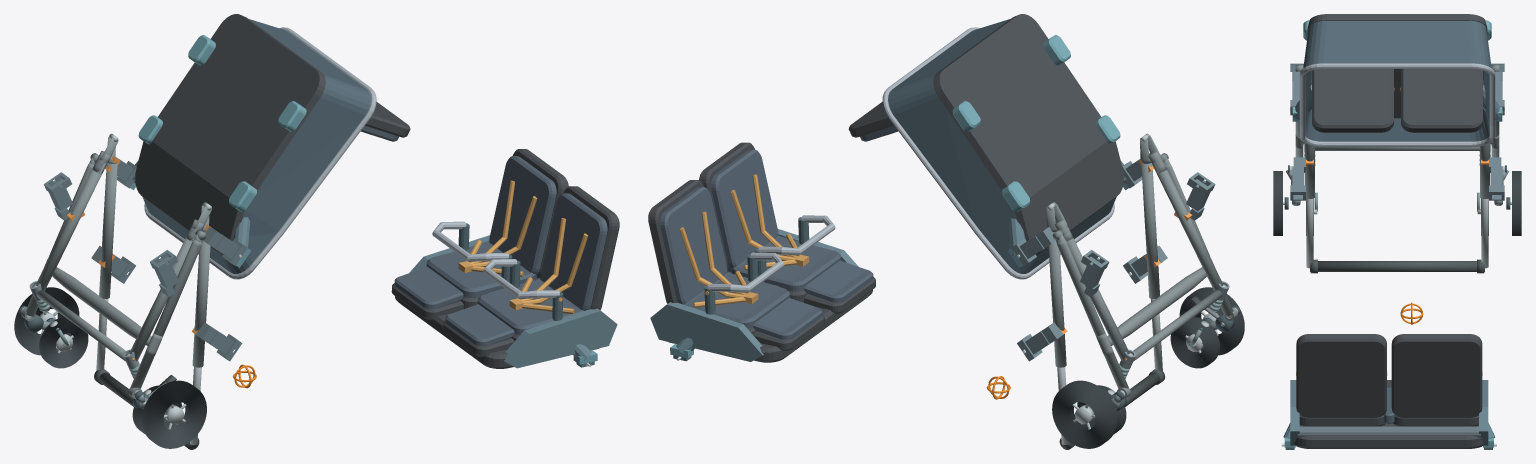
File: D33_w650_state3_wheel_S.glb
3 renders of one model, left to right at view 1: azimuth 30°, elevation 25°; view 2: azimuth 150°, elevation 25°; view 3: azimuth 270°, elevation 25°, orthographic. The views are drawn at different scales.
Parts seen in each view (by area): view 1: D33_Lower, D33_Upper, RL_tire.011, FR_tire.011, main_upper_1.012, V46_rearbar.011, main_lower_1.012, V46_rear_leg_-1.011, main_upper_-1.012, RR_tire.011, main_lower_-1.012, front_fixed_round_tube.011 (+4 smaller); view 2: D33_Lower, D33_Upper, RR_tire.011, FL_tire.011, main_upper_-1.012, V46_rearbar.011, main_lower_-1.012, V46_rear_leg_1.011, main_upper_1.012, RL_tire.011, main_lower_1.012, front_fixed_round_tube.011 (+5 smaller); view 3: D33_Lower, D33_Upper, round_handle.013, front_fixed_round_tube.011, RL_tire.011, RR_tire.011, Universal_Cabin_Receiver_H_1, Universal_Cabin_Receiver_H_-1, handle_slider_1.013, handle_slider_-1.013, main_upper_1.012, main_upper_-1.012 (+5 smaller).
Boxes of the visible parts, x1,y1,x2,y2 form: D33_Lower: (135,14,410,279); D33_Upper: (391,149,619,368); RL_tire.011: (142,380,206,448); FR_tire.011: (39,317,88,368); main_upper_1.012: (99,163,117,298); V46_rearbar.011: (52,267,151,345); main_lower_1.012: (36,163,105,290); V46_rear_leg_-1.011: (130,239,202,388); main_upper_-1.012: (192,232,210,367); RR_tire.011: (14,287,79,355); main_lower_-1.012: (129,236,195,361); front_fixed_round_tube.011: (36,290,125,361); D33_Lower: (848,14,1123,279); D33_Upper: (648,142,875,362); RR_tire.011: (1052,380,1117,448); FL_tire.011: (1170,317,1219,368); main_upper_-1.012: (1141,163,1159,298); V46_rearbar.011: (1107,267,1206,345); main_lower_-1.012: (1153,163,1223,290); V46_rear_leg_1.011: (1056,239,1128,388); main_upper_1.012: (1048,232,1066,367); RL_tire.011: (1179,287,1244,355); main_lower_1.012: (1063,236,1129,360); front_fixed_round_tube.011: (1133,290,1222,361); D33_Lower: (1299,14,1495,147); D33_Upper: (1290,334,1488,448); round_handle.013: (1310,261,1484,271); front_fixed_round_tube.011: (1315,146,1479,150); RL_tire.011: (1273,171,1282,235); RR_tire.011: (1512,171,1521,235); Universal_Cabin_Receiver_H_1: (1489,157,1504,200); Universal_Cabin_Receiver_H_-1: (1290,157,1305,200); handle_slider_1.013: (1481,198,1488,268); handle_slider_-1.013: (1306,198,1313,268); main_upper_1.012: (1480,143,1490,198); main_upper_-1.012: (1304,143,1314,198).
Size of the model in its own units: 1.64 by 1.1 by 0.766.
